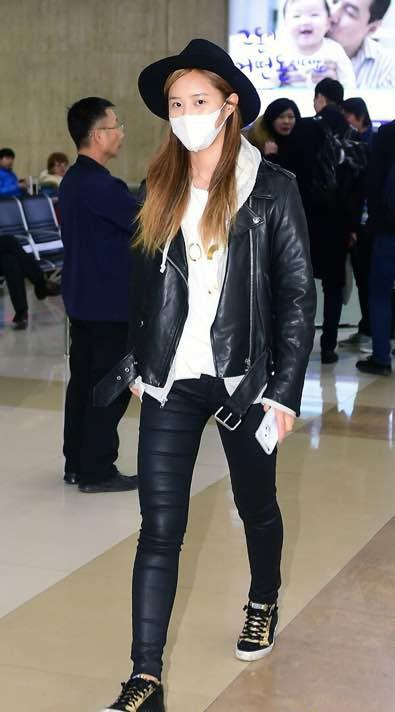NONE: (324, 1, 368, 46), (96, 119, 127, 158), (290, 11, 324, 42), (277, 114, 300, 138)
OK: (164, 86, 224, 146)
